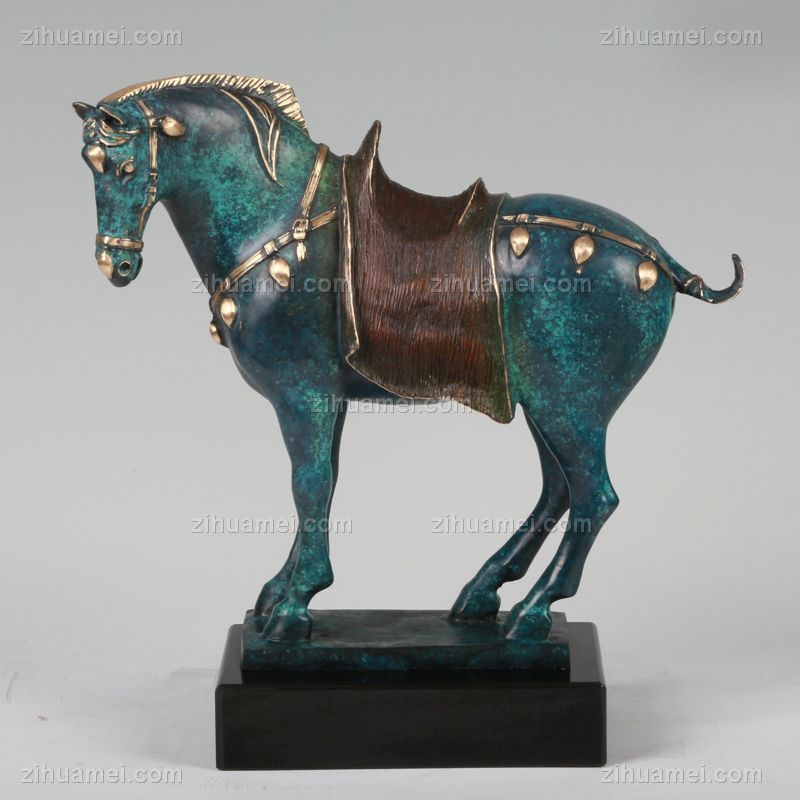background: (73, 59, 767, 678)
